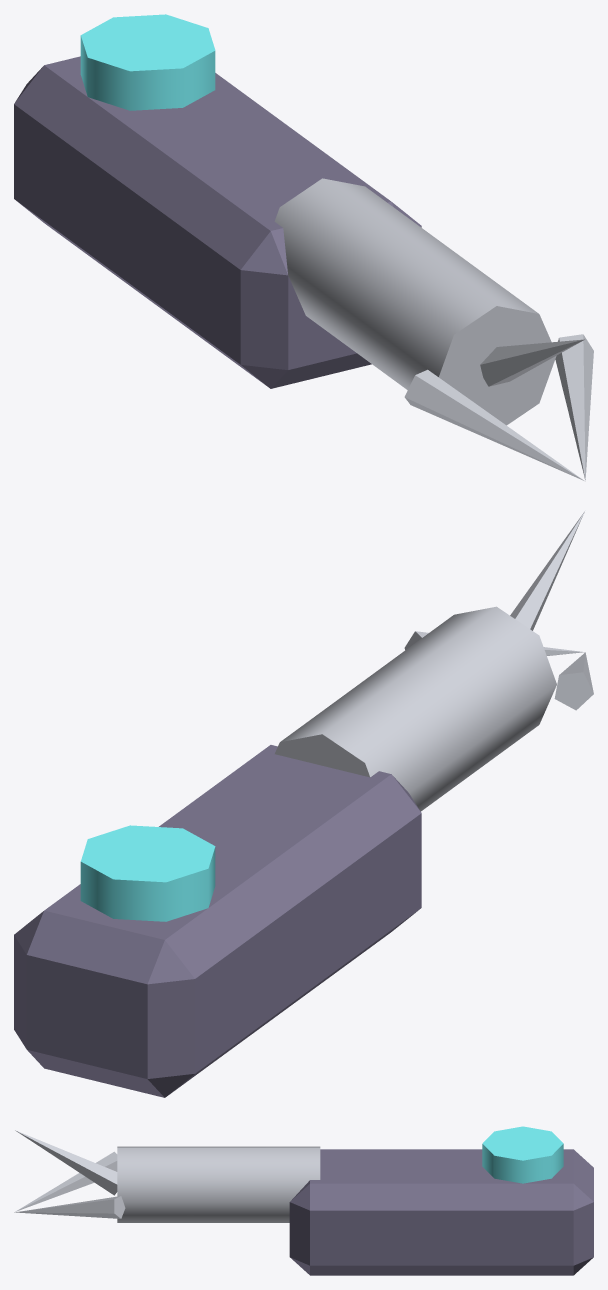
File: sh_grapple.glb
The picture shows the model from 3 angles, top to bottom: view 1: azimuth 30°, elevation 25°; view 2: azimuth 150°, elevation 25°; view 3: azimuth 270°, elevation 25°; orthographic projection. The views are drawn at different scales.
Visible parts, largest first — view 1: sh_grapple; view 2: sh_grapple; view 3: sh_grapple.
Boxes of the visible parts, x1,y1,x2,y2 form: sh_grapple: (14, 14, 593, 480); sh_grapple: (14, 510, 593, 1097); sh_grapple: (14, 1126, 593, 1275).
Bounding box in the file's own units: 0.1255 × 0.14 × 0.572.
